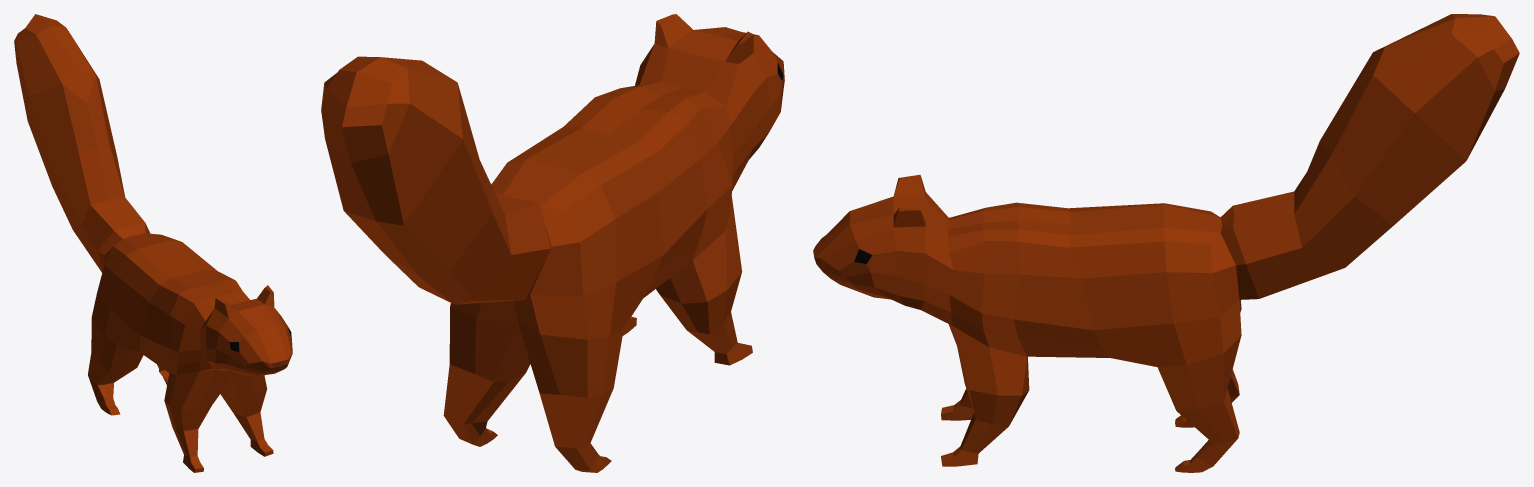
Rendered from halvferdig ekorn test.glb.
The picture shows the model from 3 angles, left to right: view 1: azimuth 30°, elevation 25°; view 2: azimuth 150°, elevation 25°; view 3: azimuth 270°, elevation 25°; orthographic projection. The views are drawn at different scales.
Parts seen in each view (by area): view 1: Cube; view 2: Cube; view 3: Cube.
Part boxes in pixels (<box>): Cube: <box>14,14,292,472</box>; Cube: <box>321,14,784,472</box>; Cube: <box>813,14,1519,472</box>.
Bounding box in the file's own units: 2.61 × 8.7 × 12.91.
